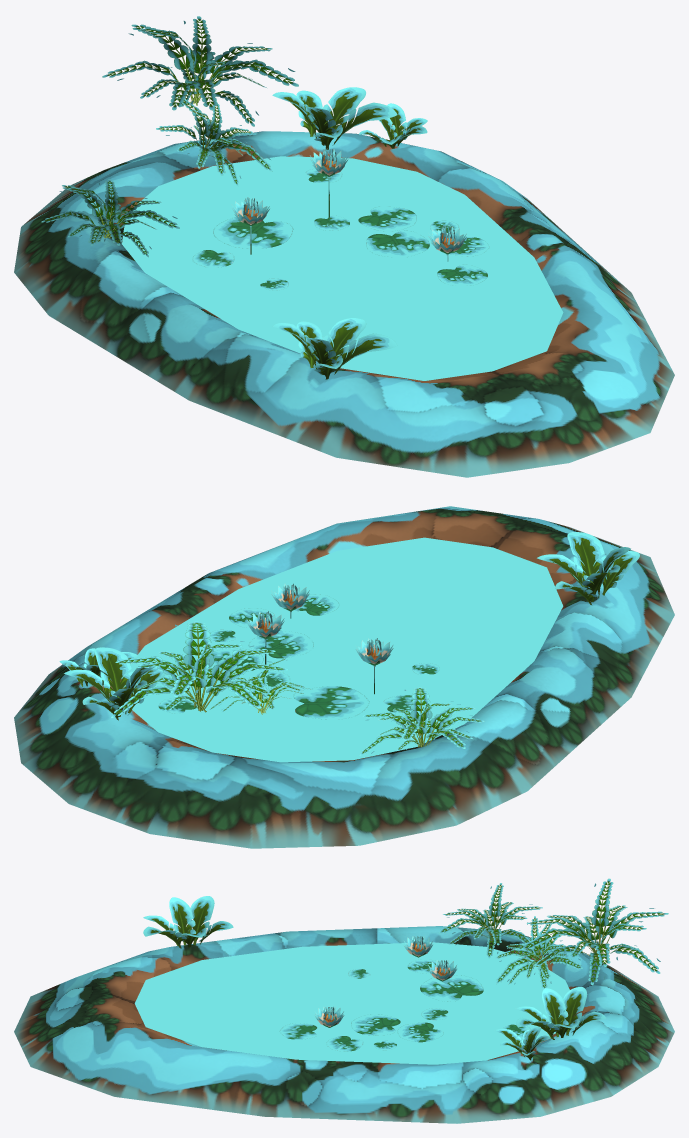
Rendered from Pond_Winter.FBX.
3 renders of one model, top to bottom at view 1: azimuth 30°, elevation 25°; view 2: azimuth 150°, elevation 25°; view 3: azimuth 270°, elevation 25°, orthographic. The views are drawn at different scales.
Parts seen in each view (by area): view 1: Object318, Line1425, Line1429, Line1427, Line1426, Line1424, Line1430, Line1428; view 2: Object318, Line1425, Line1429, Line1426, Line1424, Line1427, Line1430, Line1428; view 3: Object318, Line1425, Line1429, Line1426, Line1427, Line1424, Line1430, Line1428.
Boxes of the visible parts, x1,y1,x2,y2 form: Object318: [14, 131, 674, 477]; Line1425: [192, 148, 489, 290]; Line1429: [102, 16, 298, 126]; Line1427: [272, 87, 397, 149]; Line1426: [272, 318, 397, 379]; Line1424: [41, 179, 179, 257]; Line1430: [156, 96, 272, 186]; Line1428: [359, 103, 427, 148]; Object318: [14, 506, 674, 848]; Line1425: [158, 583, 439, 719]; Line1429: [111, 621, 287, 718]; Line1426: [537, 532, 639, 604]; Line1424: [359, 687, 484, 755]; Line1427: [64, 647, 166, 720]; Line1430: [208, 658, 312, 714]; Line1428: [59, 648, 137, 686]; Object318: [14, 926, 674, 1123]; Line1425: [279, 936, 530, 1051]; Line1429: [521, 878, 668, 985]; Line1426: [143, 896, 233, 948]; Line1427: [516, 987, 606, 1039]; Line1424: [439, 883, 542, 958]; Line1430: [495, 916, 582, 988]; Line1428: [494, 1026, 550, 1060].
Size of the model in its own units: 255 by 86.44 by 387.
4 materials, 4 textured.
